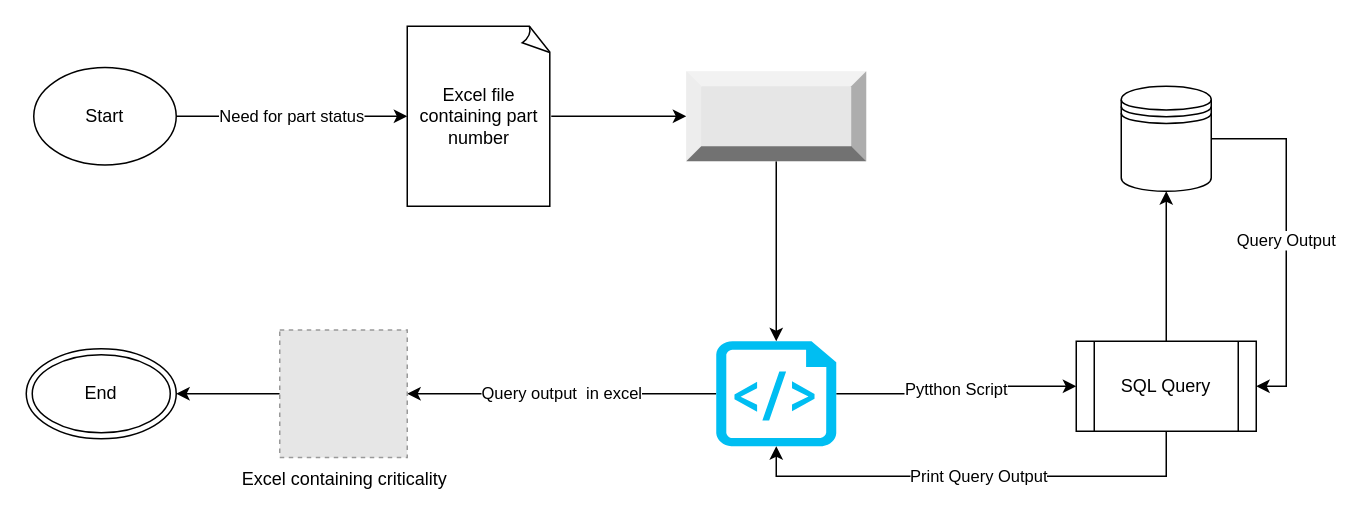
Some shapes in this 1362 by 515 pixel diagram are drawn without their labels. Grey dashed boxes stand in for pictures. The shapes that lost their labels are listed below. From the top down, each one's centre as x and y in pixels, then its label:
At pixel 776 115: "Macro assigned".
At pixel 1165 138: "SAP HANA".
